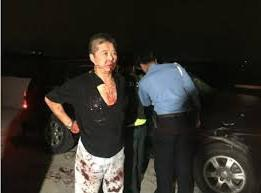Drunk: (94, 43, 119, 72)
